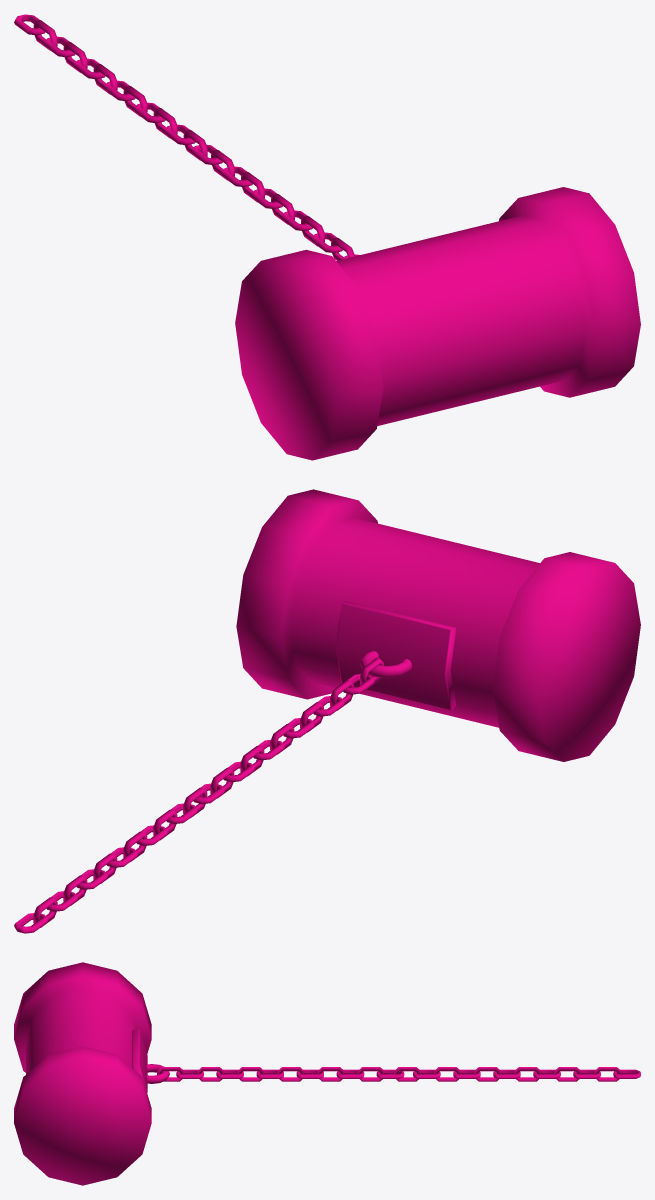
The model's file is trap 4.fbx.
3 views of the same model, one above another, from view 1: azimuth 30°, elevation 25°; view 2: azimuth 150°, elevation 25°; view 3: azimuth 270°, elevation 25° (orthographic). The views are drawn at different scales.
Parts seen in each view (by area): view 1: chain_low6.001; view 2: chain_low6.001; view 3: chain_low6.001.
Part boxes in pixels (left/top/right/bottom): chain_low6.001: left=14, top=14, right=640, bottom=460; chain_low6.001: left=14, top=489, right=640, bottom=933; chain_low6.001: left=14, top=962, right=640, bottom=1185.
Bounding box in the file's own units: 1490 × 880 × 4006.
